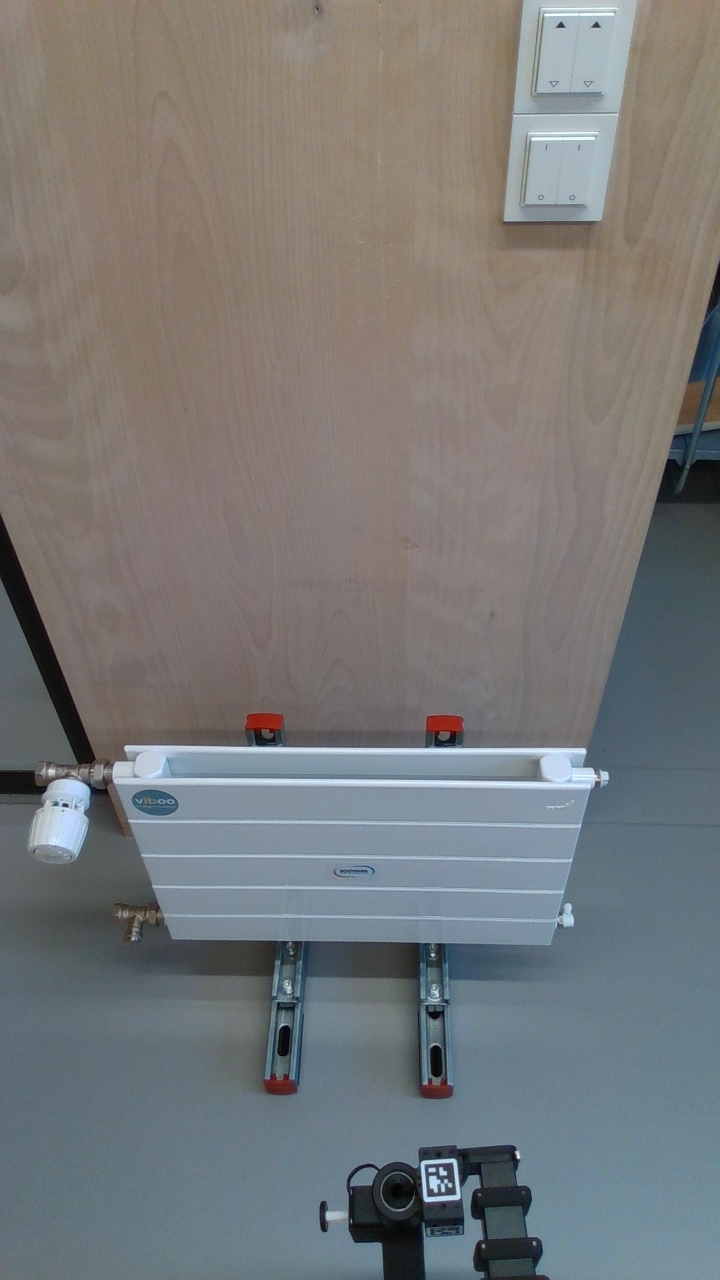Knob_Radiator: (21, 764, 100, 875)
Light_Switch: (512, 103, 613, 226), (513, 4, 626, 112)
Radiator: (106, 730, 604, 966)
